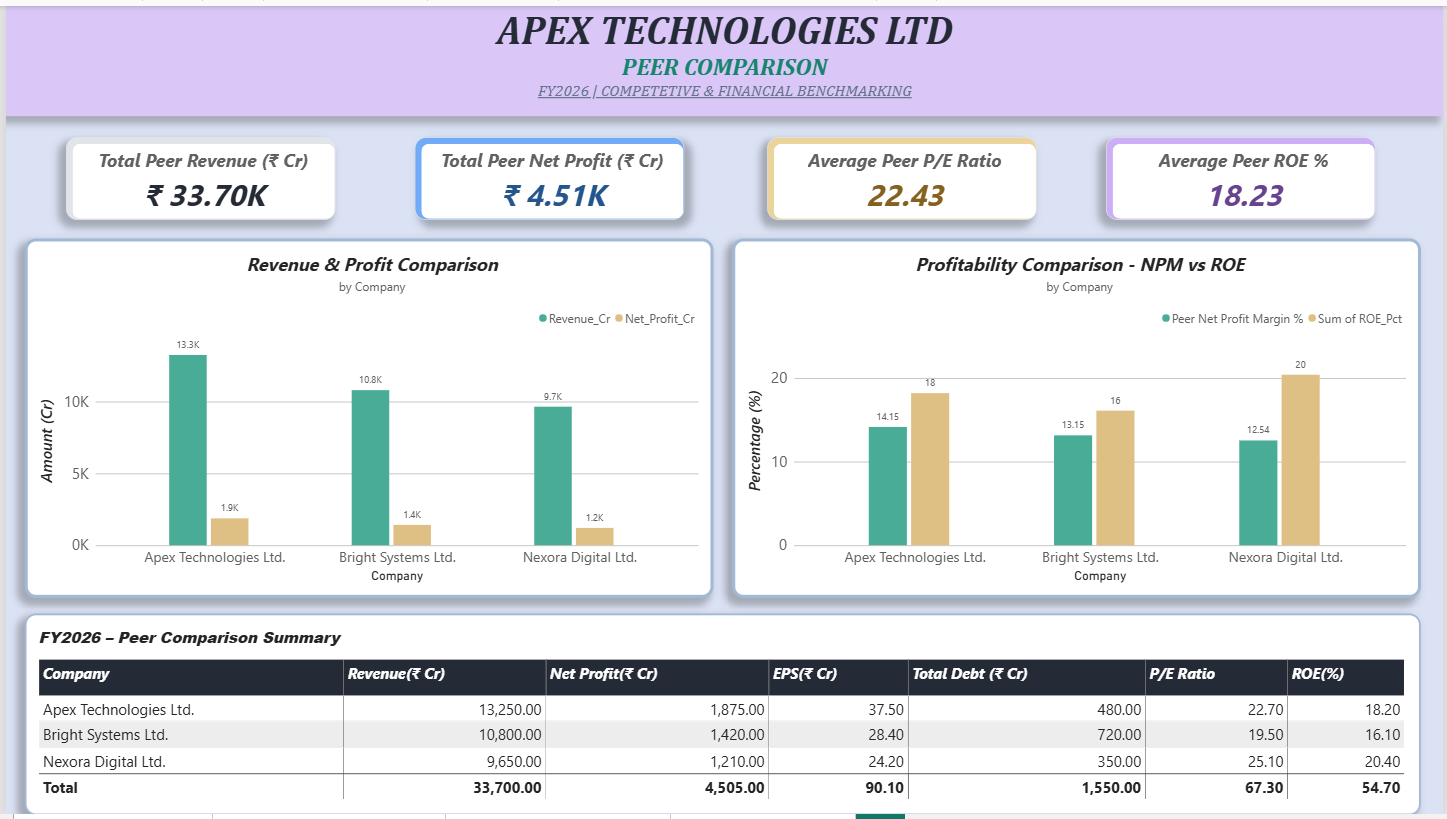

The page's visual inventory and layout, read from the dashboard file:
{"tool":"powerbi","page":{"name":"PEER COMPARISON","canvas":[1920,1080],"ordinal":3},"visuals":[{"type":"textbox","box":[0,0,1920.2,146.9],"z":0},{"type":"cardVisual","fields":{"Data":["apex_equity_research peer_comparison.Total Peer Revenue (₹ Cr)"]},"box":[80.3,175,360,110],"z":1000},{"type":"cardVisual","fields":{"Data":["apex_equity_research peer_comparison.Total Peer Net Profit (₹ Cr)"]},"box":[545.5,175,360,110],"z":2000},{"type":"cardVisual","fields":{"Data":["apex_equity_research peer_comparison.Average Peer P/E Ratio"]},"box":[1016.8,175,360,110],"z":3000},{"type":"cardVisual","fields":{"Data":["apex_equity_research peer_comparison.Average Peer ROE %"]},"box":[1469.6,175,360,110],"z":4000},{"type":"clusteredColumnChart","title":"Revenue & Profit Comparison","fields":{"Category":["apex_equity_research peer_comparison.Company"],"Y":["Sum(apex_equity_research peer_comparison.Revenue_Cr_FY2026)","Sum(apex_equity_research peer_comparison.Net_Profit_Cr_FY2026)"]},"box":[24.7,310.8,920,480],"z":5000},{"type":"clusteredColumnChart","title":"Profitability Comparison - NPM vs ROE","fields":{"Category":["apex_equity_research peer_comparison.Company"],"Y":["apex_equity_research peer_comparison.Peer Net Profit Margin %","Sum(apex_equity_research peer_comparison.ROE_Pct)"]},"box":[969.5,310.8,920,480],"z":6000},{"type":"tableEx","title":"FY2026 – Peer Comparison Summary","fields":{"Values":["apex_equity_research peer_comparison.Company","Sum(apex_equity_research peer_comparison.Revenue_Cr_FY2026)","Sum(apex_equity_research peer_comparison.Net_Profit_Cr_FY2026)","Sum(apex_equity_research peer_comparison.EPS_Rs)","apex_equity_research peer_comparison.Total Peer Debt (₹ Cr)","Sum(apex_equity_research peer_comparison.PE_Ratio)","Sum(apex_equity_research peer_comparison.ROE_Pct)"]},"box":[24.7,811,1864.8,269.6],"z":7000}]}

Visuals, with their boxes in screenshot pixels (x1, y1, x2, y2), scaled from the page's 1920x1080 canvas onto the 1447x819 screenshot:
textbox: [x1=0, y1=0, x2=1446, y2=111]
cardVisual - apex_equity_research peer_comparison.Total Peer Revenue (₹ Cr): [x1=61, y1=133, x2=332, y2=216]
cardVisual - apex_equity_research peer_comparison.Total Peer Net Profit (₹ Cr): [x1=411, y1=133, x2=682, y2=216]
cardVisual - apex_equity_research peer_comparison.Average Peer P/E Ratio: [x1=766, y1=133, x2=1038, y2=216]
cardVisual - apex_equity_research peer_comparison.Average Peer ROE %: [x1=1108, y1=133, x2=1379, y2=216]
"Revenue & Profit Comparison" clusteredColumnChart: [x1=19, y1=236, x2=712, y2=600]
"Profitability Comparison - NPM vs ROE" clusteredColumnChart: [x1=731, y1=236, x2=1424, y2=600]
"FY2026 – Peer Comparison Summary" tableEx: [x1=19, y1=615, x2=1424, y2=818]
